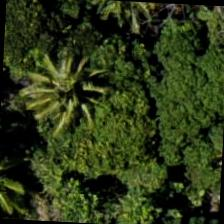Kelapa_Sawit: (5, 62, 100, 158)
